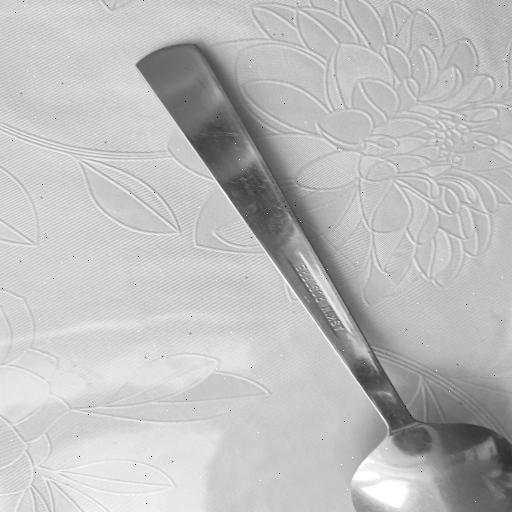spoon: (137, 41, 512, 512)
